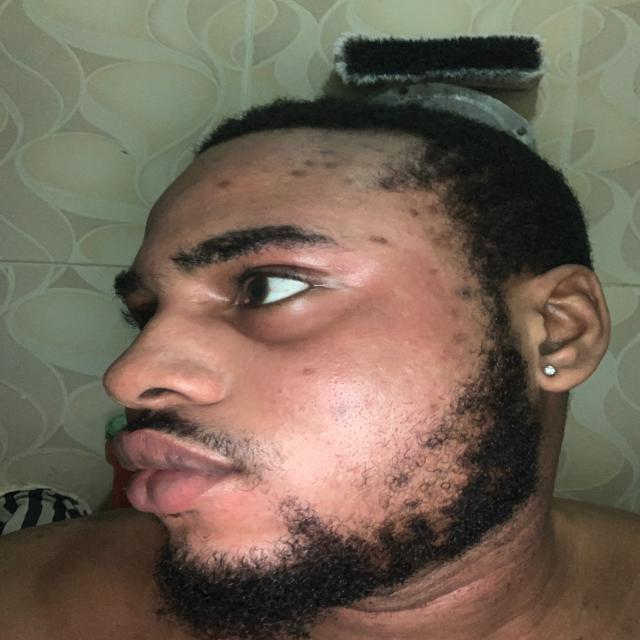acne: (284, 146, 340, 184), (440, 283, 474, 322), (405, 202, 441, 236), (424, 228, 454, 253), (447, 332, 475, 348), (366, 230, 392, 246), (358, 144, 394, 154), (211, 178, 237, 190), (338, 174, 357, 187), (356, 160, 377, 170), (438, 352, 454, 365), (206, 154, 225, 164), (298, 366, 316, 376), (432, 266, 442, 282), (272, 386, 284, 395)
dark circle: (214, 294, 360, 349)
pores: (306, 374, 418, 452), (309, 456, 352, 486)
